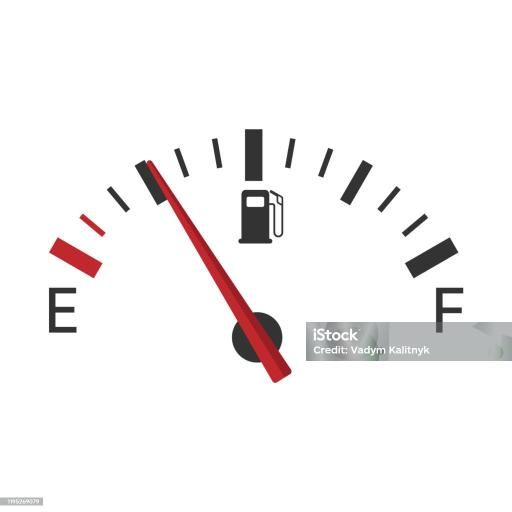empty: (38, 282, 80, 336)
fuel_icon: (234, 185, 294, 244)
full: (429, 282, 469, 334)
guage_area: (31, 116, 481, 395)
needle_center: (230, 308, 292, 366)
needle_tip: (138, 160, 168, 189)
